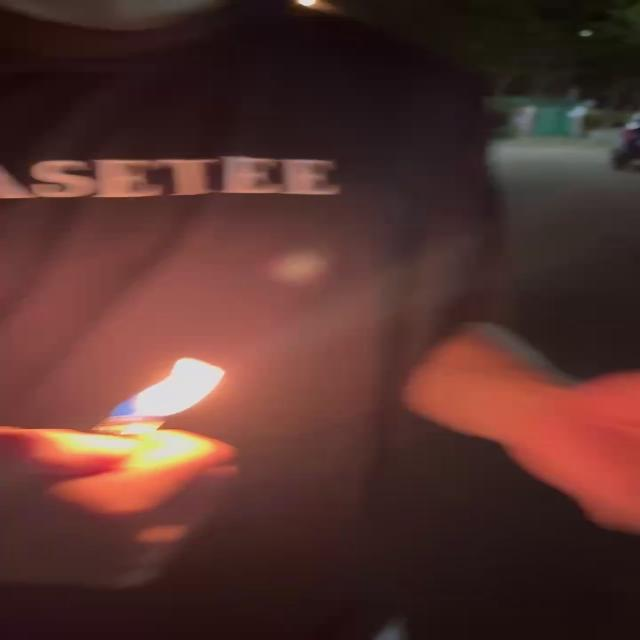Fire: (107, 355, 232, 423)
